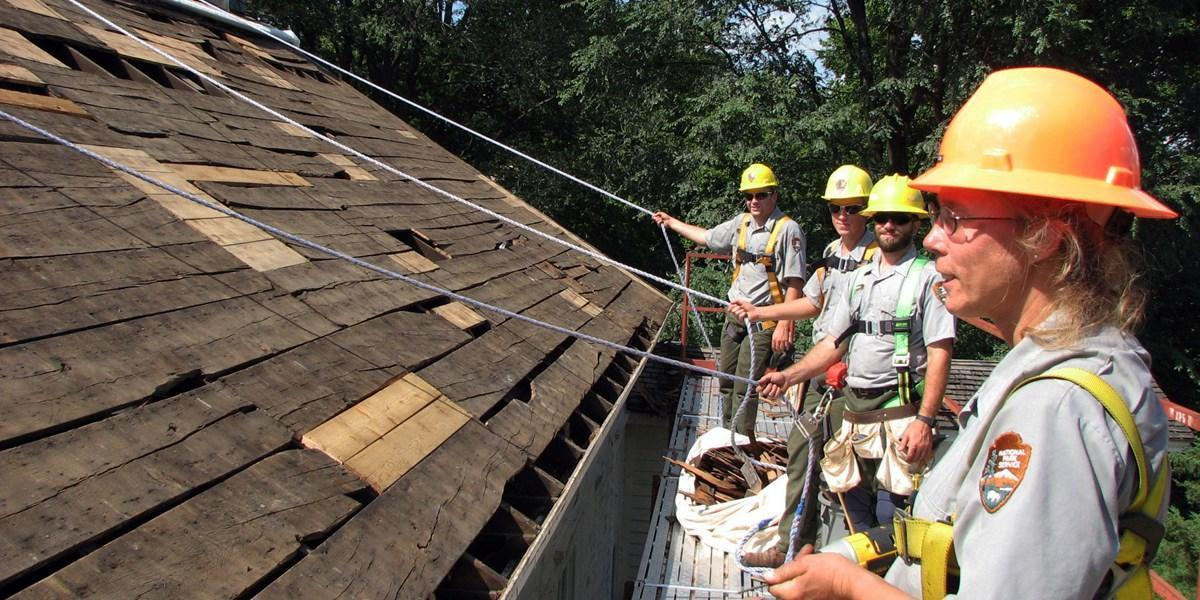Boots: (923, 61, 1172, 235), (858, 171, 939, 221), (732, 159, 785, 194)
